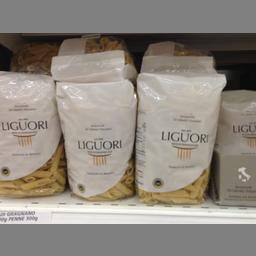pasta: (136, 66, 225, 202), (53, 80, 136, 200), (0, 70, 64, 196)
